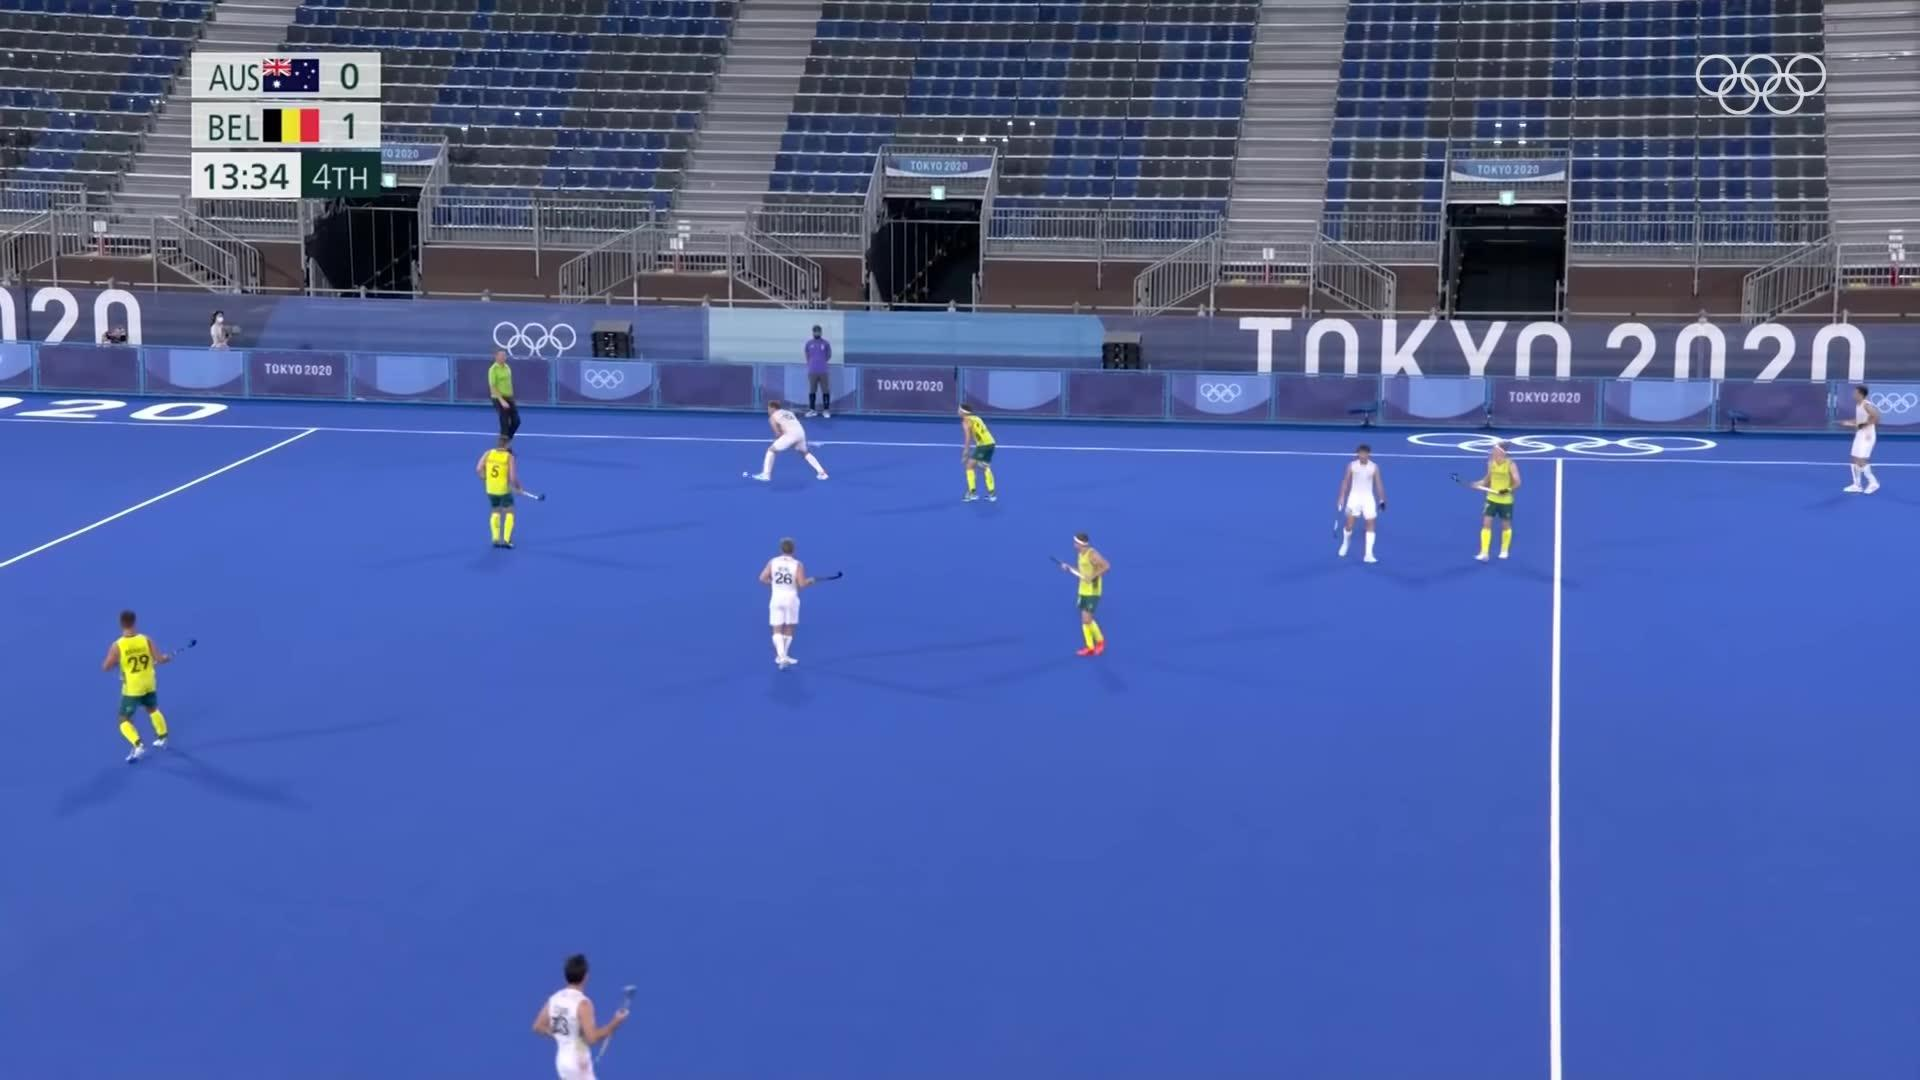ball: (738, 468, 753, 481)
